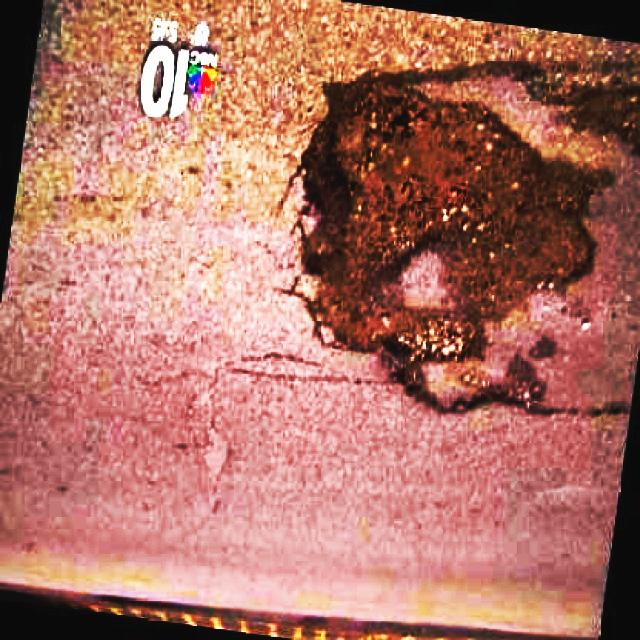pothole: (282, 66, 603, 372)
